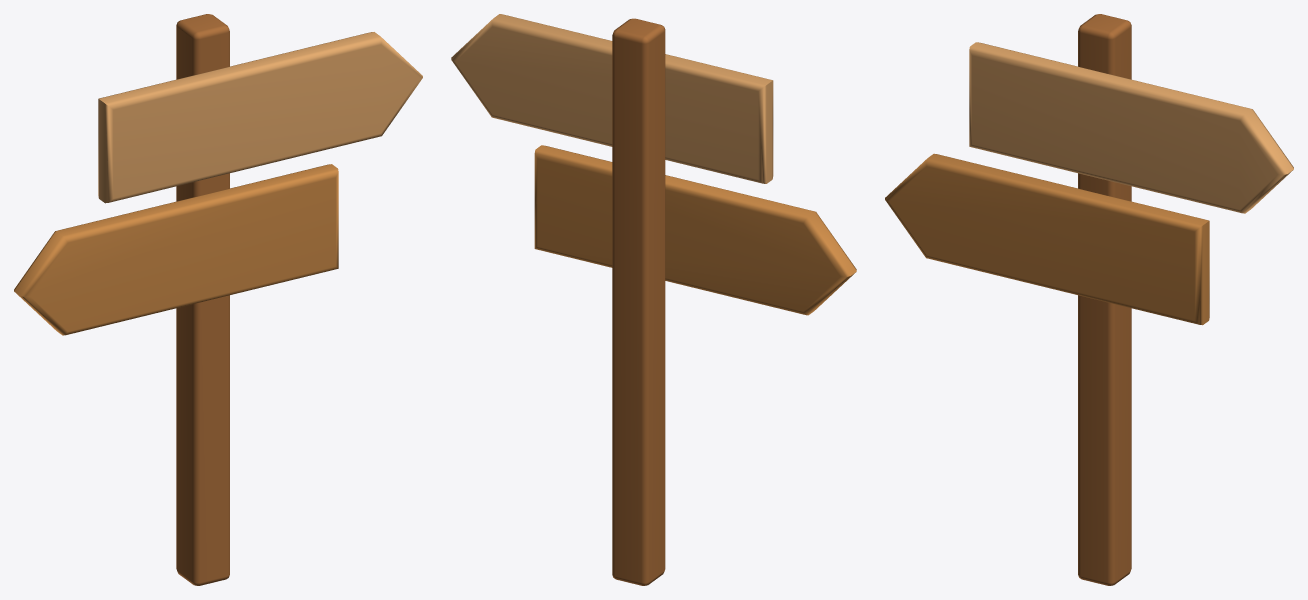
Rendered from SignPost.fbx.
The picture shows the model from 3 angles, left to right: view 1: azimuth 30°, elevation 25°; view 2: azimuth 150°, elevation 25°; view 3: azimuth 330°, elevation 25°; orthographic projection.
Parts seen in each view (by area): view 1: SignPost; view 2: SignPost; view 3: SignPost.
Boxes of the visible parts, left/top/right/bottom form: SignPost: left=14, top=14, right=422, bottom=585; SignPost: left=451, top=14, right=856, bottom=585; SignPost: left=885, top=14, right=1293, bottom=585.
Size of the model in its own units: 3.8 by 5 by 0.525.
1 material, 1 textured.
